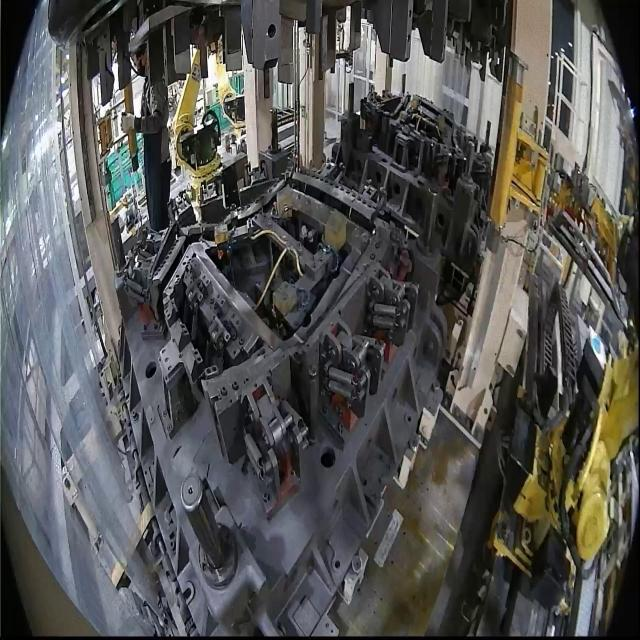Person: (120, 40, 172, 233)
